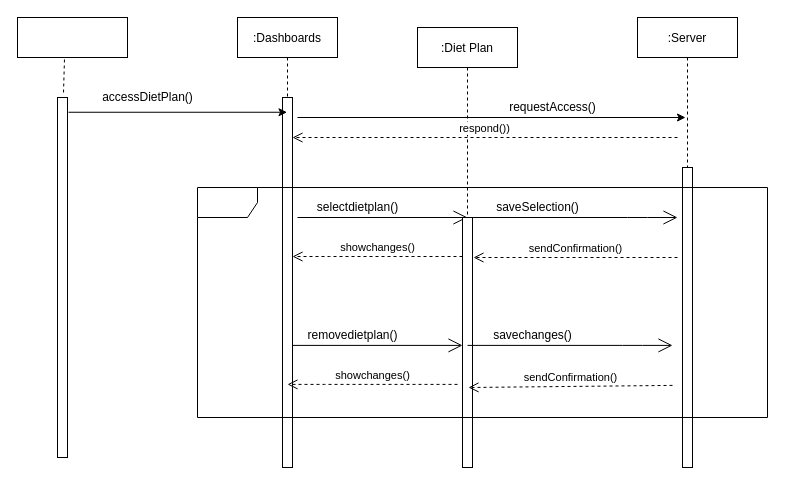
Some shapes in this 785 by 485 pixel diagram are drawn without their labels. Each missing label, with the centre of its shape:
":Customer Page" goes at point 72,37.
"alt" goes at point 482,302.
